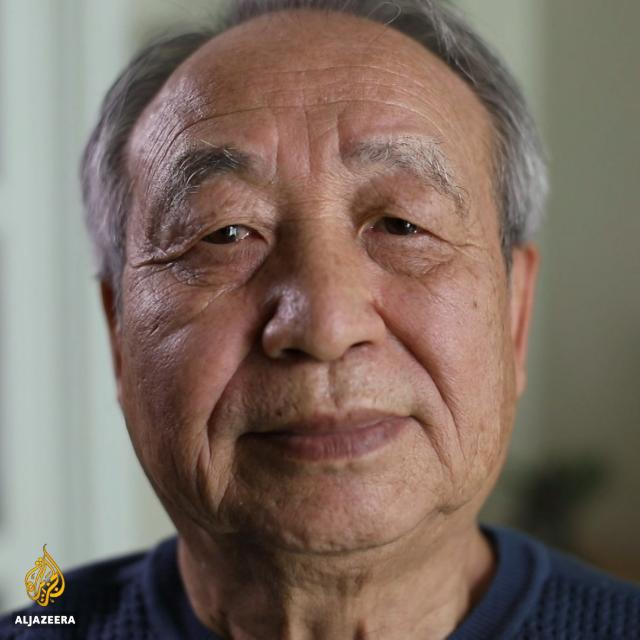chin: (182, 458, 230, 508)
crows_feet: (141, 244, 183, 272)
forehead: (179, 100, 233, 132), (260, 92, 318, 118), (334, 87, 388, 113)
frown_line: (329, 122, 355, 166), (265, 140, 291, 178), (302, 132, 320, 172)
gummy_smile: (197, 354, 253, 438), (385, 326, 451, 394)
sad_smile: (411, 413, 445, 449)
